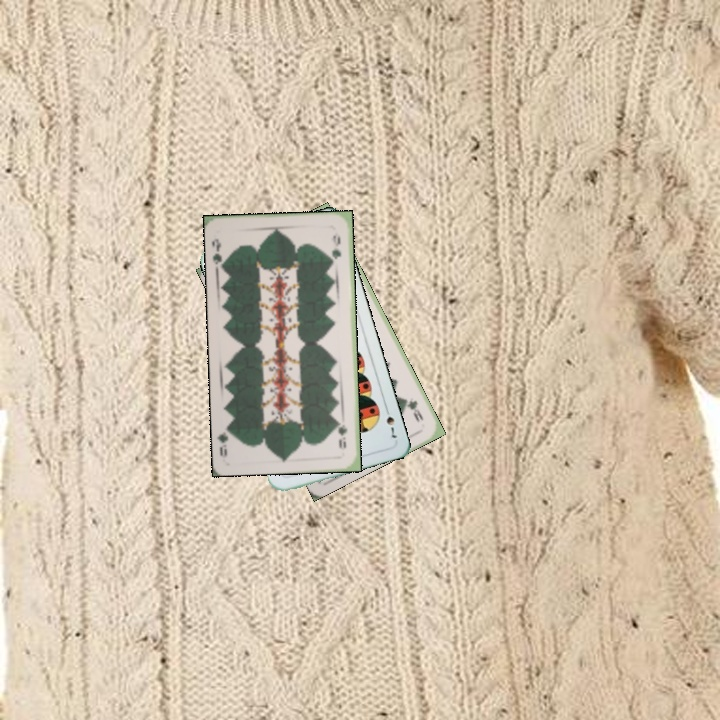G9: (401, 395, 426, 425), (208, 234, 228, 271), (335, 416, 350, 451)
S7: (381, 403, 400, 441)
